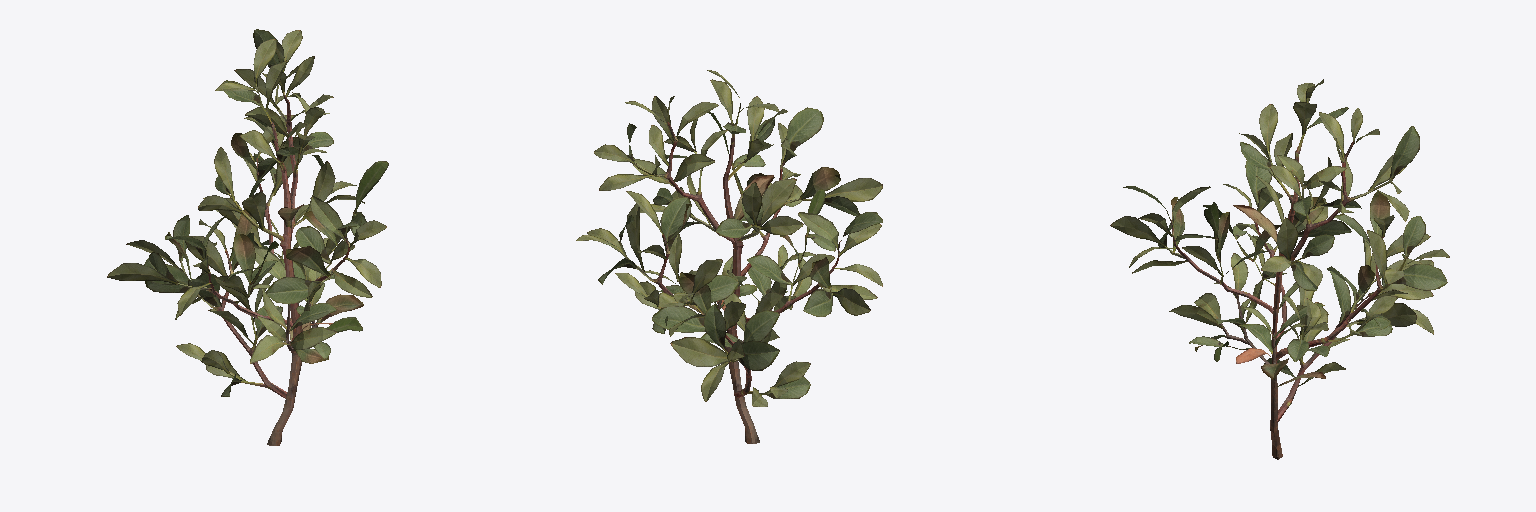
The picture shows the model from 3 angles: view 1: azimuth 30°, elevation 25°; view 2: azimuth 150°, elevation 25°; view 3: azimuth 270°, elevation 25°; orthographic projection.
Visible parts, largest first — view 1: shrub_04_b_LOD0; view 2: shrub_04_b_LOD0; view 3: shrub_04_b_LOD0.
Part boxes in pixels (bbox=[...]): shrub_04_b_LOD0: bbox=[107, 29, 388, 445]; shrub_04_b_LOD0: bbox=[576, 70, 882, 443]; shrub_04_b_LOD0: bbox=[1110, 79, 1449, 459].
Size of the model in its own units: 0.1428 by 0.2077 by 0.1664.
1 materials, 1 textured.